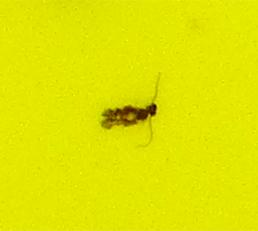Hymenoptera: (100, 100, 158, 131)
